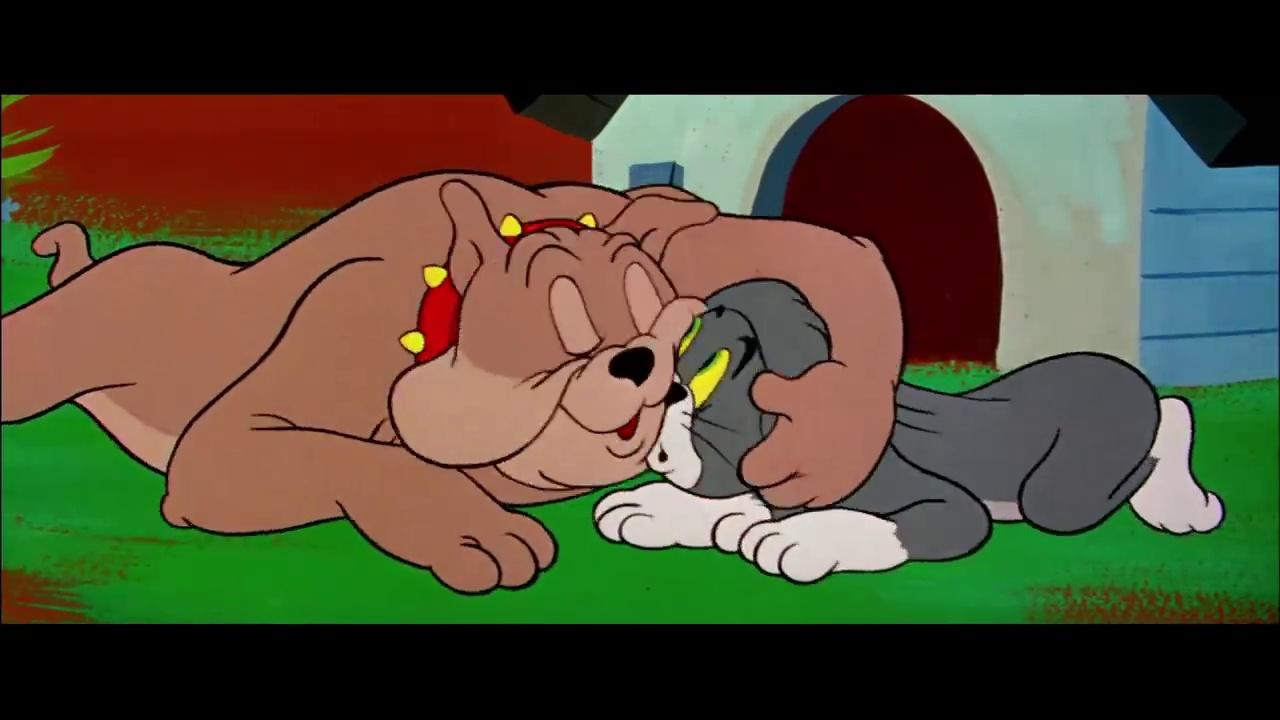Tom: (591, 274, 1227, 586)
